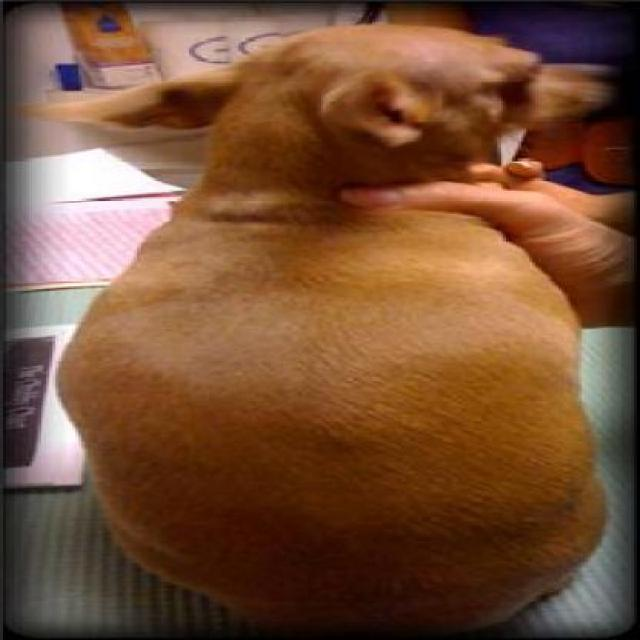Dog: (28, 14, 620, 634)
